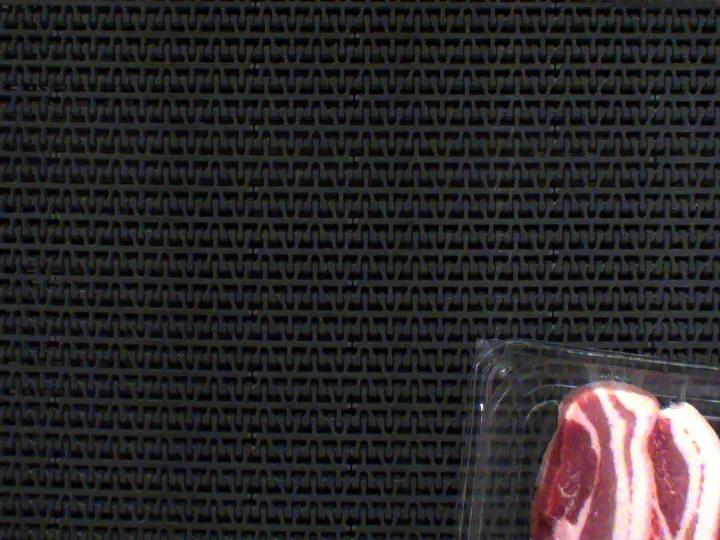packaging-error: (557, 351, 710, 418)
